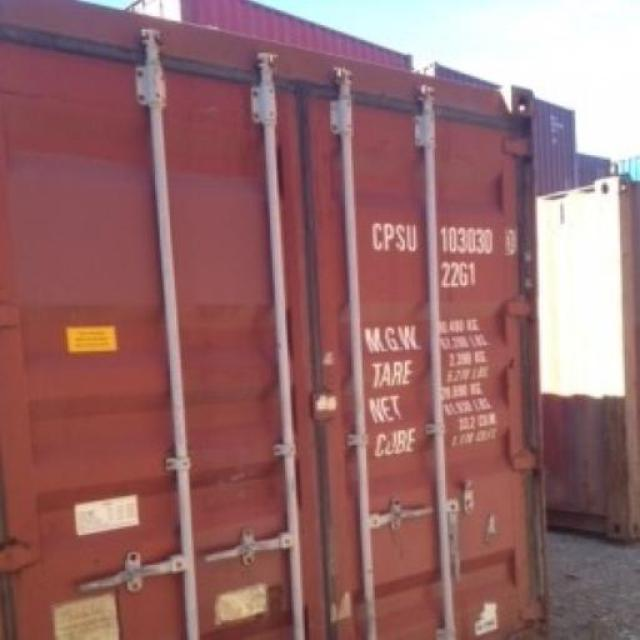ISO: (442, 261, 479, 288)
container_number: (372, 228, 520, 255)
